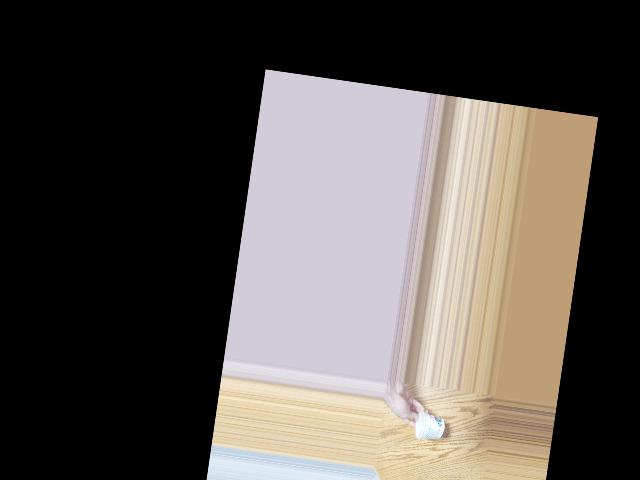cotage: (413, 415, 444, 447)
